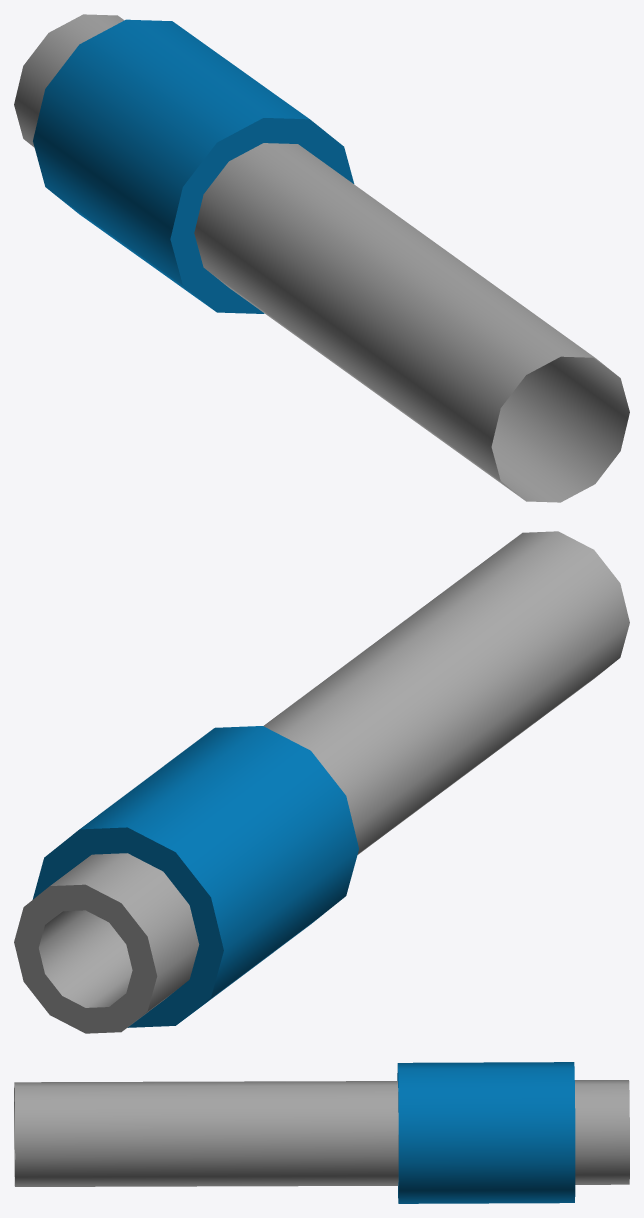
Rendered from Tank_Fire.fbx.
The picture shows the model from 3 angles, top to bottom: view 1: azimuth 30°, elevation 25°; view 2: azimuth 150°, elevation 25°; view 3: azimuth 270°, elevation 25°; orthographic projection. The views are drawn at different scales.
Visible parts, largest first — view 1: Tank_Fire; view 2: Tank_Fire; view 3: Tank_Fire.
Part boxes in pixels (<box>): Tank_Fire: <box>14,14,629,502</box>; Tank_Fire: <box>14,531,629,1033</box>; Tank_Fire: <box>14,1062,629,1203</box>.
Bounding box in the file's own units: 29.71 × 29.3 × 127.
